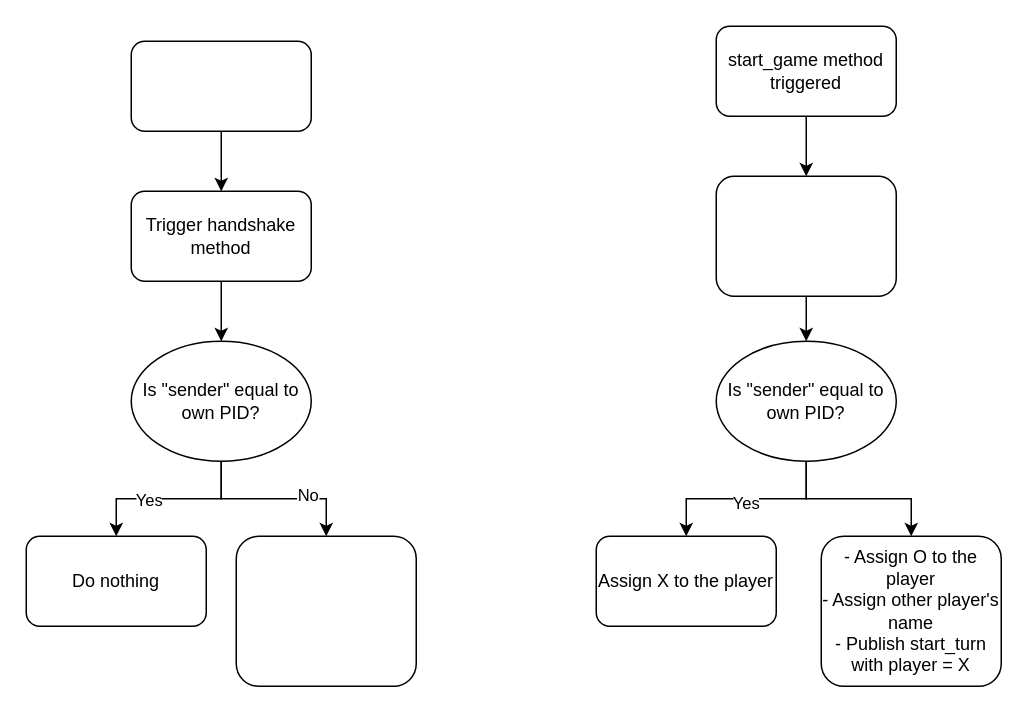
Image size: 1028x713. Some labels were removed from this diagram. Each missing label, with the centre of its shape:
- Publish start_game method in queue channel - Set "name" as other player's name: pixel 325 610
- Unsubscribe from queue channel - Subscribe to match channel: pixel 805 235
Player enters queue: pixel 220 85
